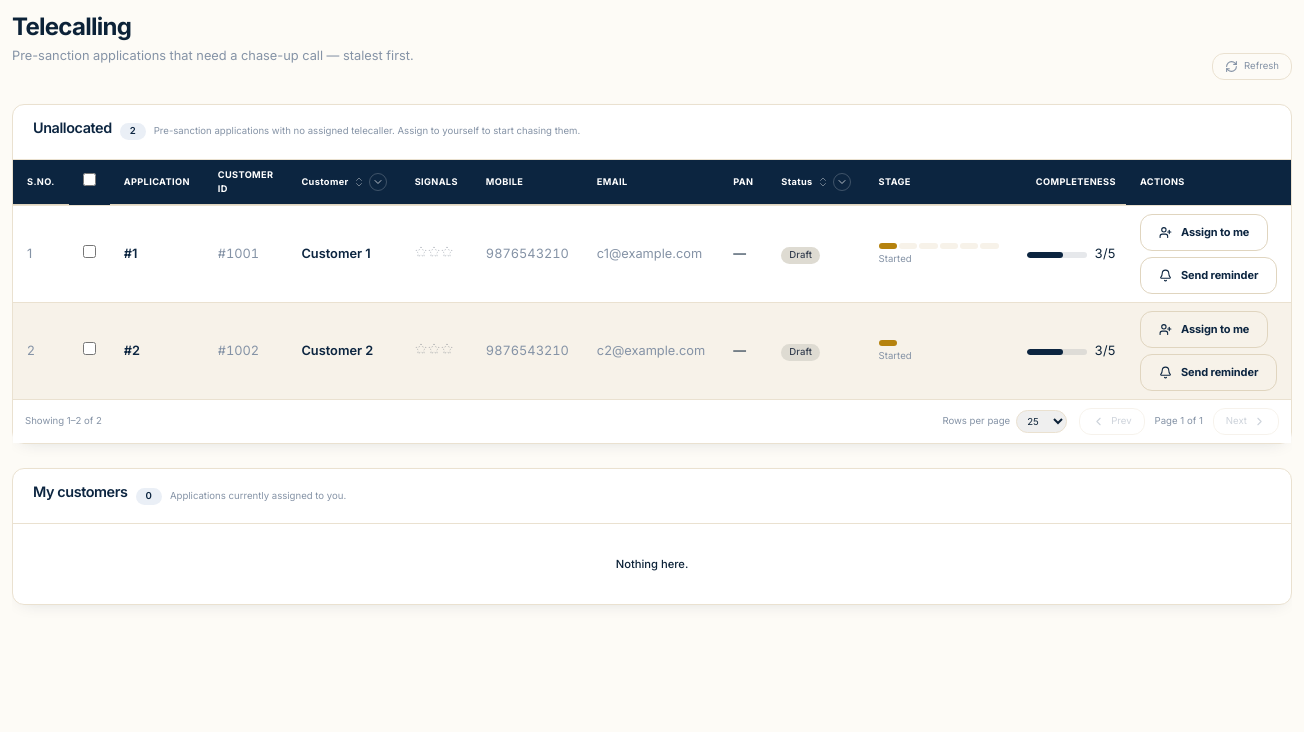
Test: assign to me › shows a failed assignment next to that row's button
The image size is (1304, 732).
Expected: the button "Customer 1" is shown, [301,244,371,265]
Click the button "Assign to me" in the row of "1001" at (1204, 233), box [1140,214,1268,251]
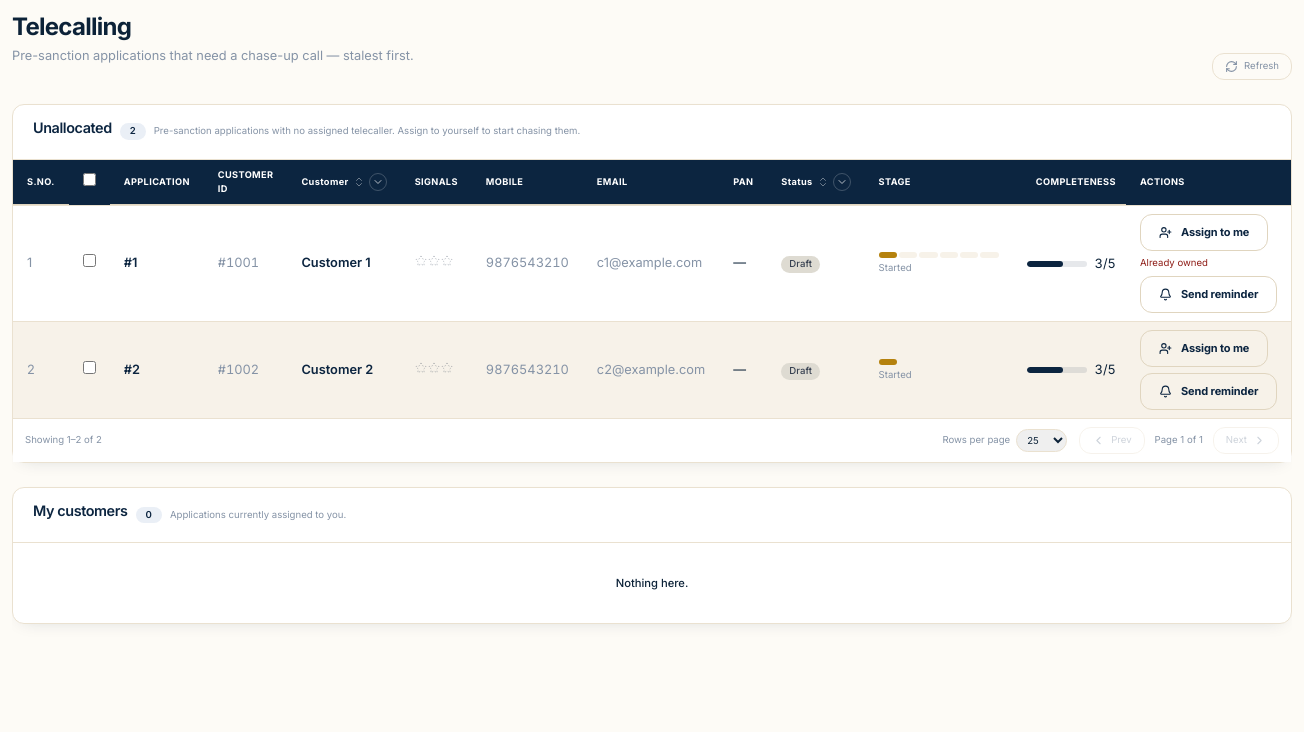
Expected: the message reads "Already owned", [1140,257,1208,268]
